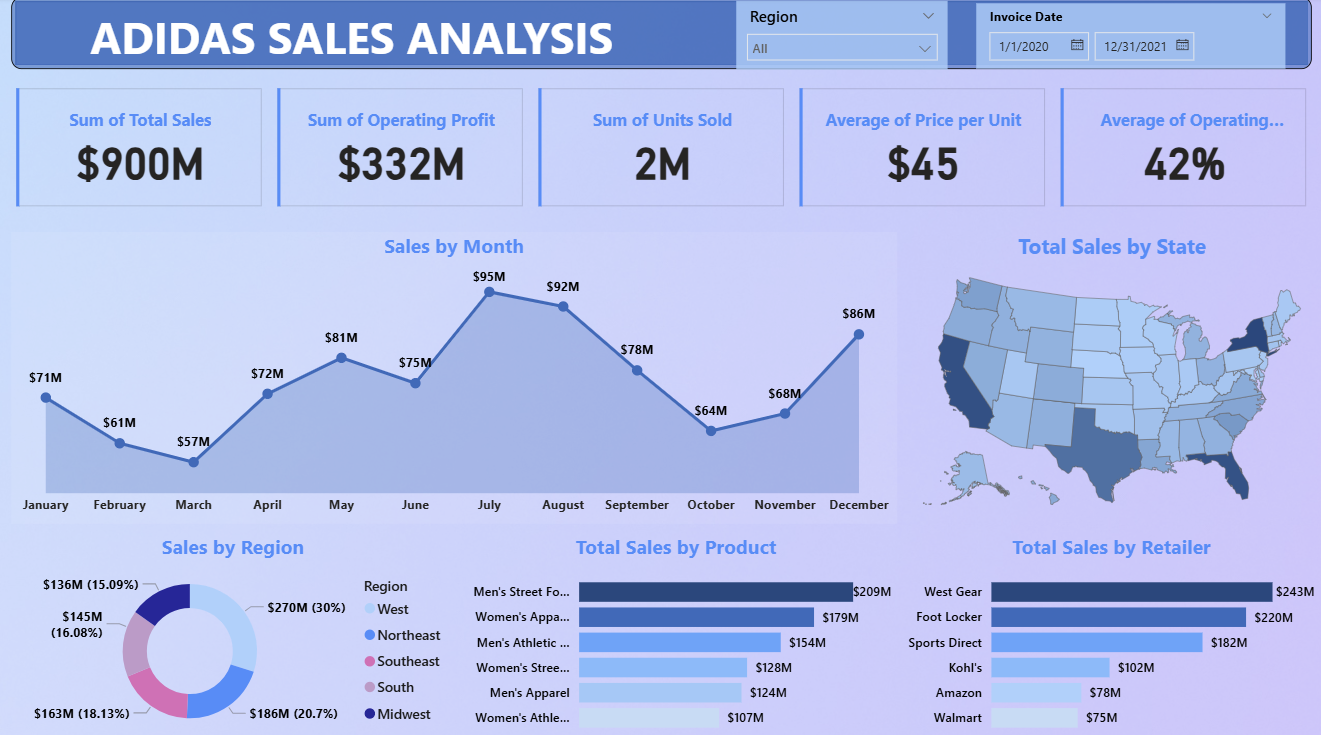

Layout of this report page (visuals, bound fields, positions):
{"tool":"powerbi","page":{"name":"Page 1","canvas":[1280,720],"ordinal":0},"visuals":[{"type":"shape","box":[11,0,1255.6,70],"z":0},{"type":"textbox","box":[82.3,4.1,531,79.6],"z":1000},{"type":"cardVisual","fields":{"Data":["Sum(Data Sales Adidas.Total Sales)","Sum(Data Sales Adidas.Operating Profit)","Sum(Data Sales Adidas.Units Sold)","Avg(Data Sales Adidas.Price per Unit)","Avg(Data Sales Adidas.Operating Margin)"]},"box":[11,83.7,1255.6,124.9],"z":2000},{"type":"areaChart","title":"Sales by Month","fields":{"Category":["Data Sales Adidas.Invoice Date.Variation.Date Hierarchy.Month"],"Y":["Sum(Data Sales Adidas.Total Sales)"]},"box":[11,226.4,854.9,281.3],"z":3000},{"type":"shapeMap","title":"Total Sales by State","fields":{"Category":["Data Sales Adidas.State"],"Value":["Sum(Data Sales Adidas.Total Sales)"]},"box":[865.9,226.4,414.4,281.3],"z":4000},{"type":"donutChart","title":"Sales by Region","fields":{"Category":["Data Sales Adidas.Region"],"Y":["Sum(Data Sales Adidas.Total Sales)"]},"box":[11,517.3,428.1,203.1],"z":5000},{"type":"barChart","title":"Total Sales by Product","fields":{"Category":["Data Sales Adidas.Product"],"Y":["Sum(Data Sales Adidas.Total Sales)"]},"box":[439.1,517.3,426.8,203.1],"z":6000},{"type":"barChart","title":"Total Sales by Retailer","fields":{"Y":["Sum(Data Sales Adidas.Total Sales)"],"Category":["Data Sales Adidas.Retailer"]},"box":[871.4,517.3,403.4,203.1],"z":7000},{"type":"slicer","fields":{"Values":["Data Sales Adidas.Region"]},"box":[710.5,3.7,204.2,66],"z":8000},{"type":"slicer","fields":{"Values":["Data Sales Adidas.Invoice Date"]},"box":[942.8,6.1,298.4,63.6],"z":9000}]}

Visuals, with their boxes in screenshot pixels (x1, y1, x2, y2), scaled from the page's 1280x720 canvas onto the 1321x735 screenshot:
shape: BBox(11, 0, 1307, 71)
textbox: BBox(85, 4, 633, 85)
cardVisual - Sum(Data Sales Adidas.Total Sales) x Sum(Data Sales Adidas.Operating Profit): BBox(11, 85, 1307, 213)
"Sales by Month" areaChart: BBox(11, 231, 894, 518)
"Total Sales by State" shapeMap: BBox(894, 231, 1320, 518)
"Sales by Region" donutChart: BBox(11, 528, 453, 734)
"Total Sales by Product" barChart: BBox(453, 528, 894, 734)
"Total Sales by Retailer" barChart: BBox(899, 528, 1316, 734)
slicer - Data Sales Adidas.Region: BBox(733, 4, 944, 71)
slicer - Data Sales Adidas.Invoice Date: BBox(973, 6, 1281, 71)
